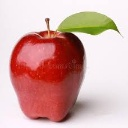apple: (10, 11, 86, 121)
